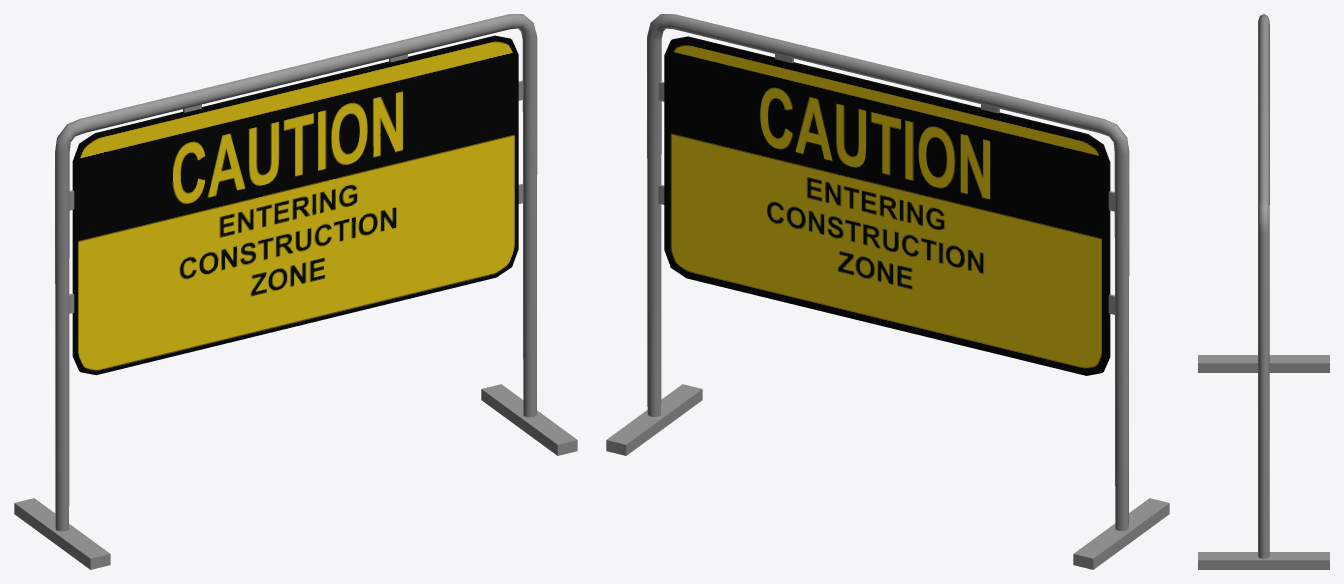
File: Caution.fbx
The picture shows the model from 3 angles, left to right: view 1: azimuth 30°, elevation 25°; view 2: azimuth 150°, elevation 25°; view 3: azimuth 270°, elevation 25°; orthographic projection. The views are drawn at different scales.
Parts seen in each view (by area): view 1: Caution; view 2: Caution; view 3: Caution.
Boxes of the visible parts, left/top/right/bottom form: Caution: left=14, top=14, right=577, bottom=569; Caution: left=606, top=14, right=1169, bottom=569; Caution: left=1198, top=14, right=1329, bottom=569.
Bounding box in the file's own units: 0.1022 × 0.0835 × 0.0277.
2 materials, 2 textured.
